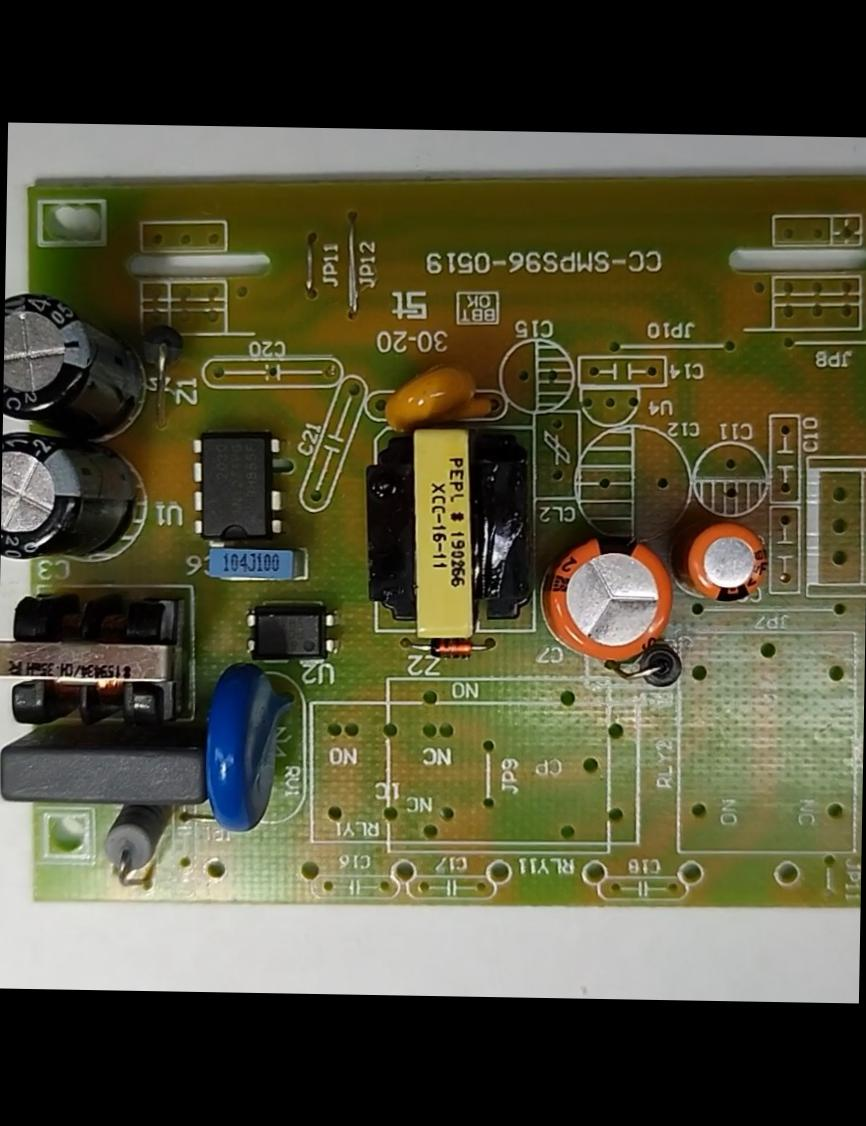Cap1: (531, 516, 679, 678)
Cap2: (666, 501, 777, 631)
Cap3: (0, 425, 156, 586)
Cap4: (2, 276, 164, 446)
MOSFET: (182, 418, 294, 556)
Mov: (192, 649, 307, 846)
Resistor: (92, 794, 183, 888)
Transformer: (347, 412, 534, 644), (0, 578, 197, 730)
